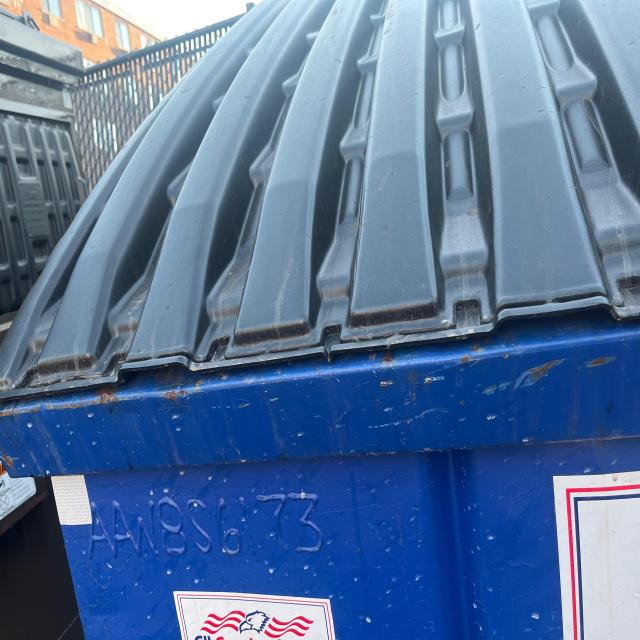Filiform Corrosion: (3, 386, 193, 418), (367, 349, 401, 395), (526, 353, 573, 383), (458, 341, 493, 373), (587, 351, 616, 375)
